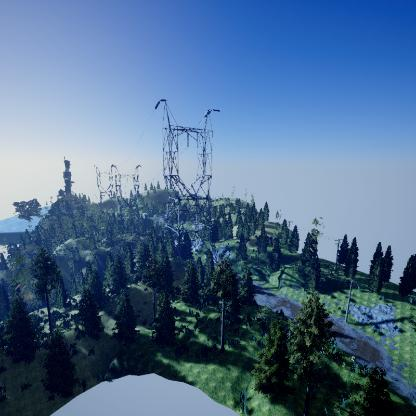tower: (154, 96, 221, 258), (111, 163, 142, 229), (92, 165, 116, 213)
